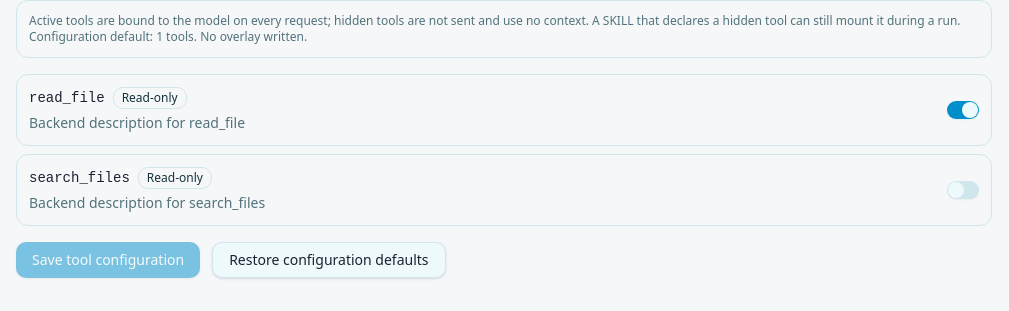
it: ToolsSettingsCard mounted feedback › preserves raw backend save errors across locale changes (toolsSettings.savedEmpty)
What coordinates should you click on to do the following:
click the switch named "read_file active status"
I would click on:
 (963, 110)
Its box is [947,101,979,119].
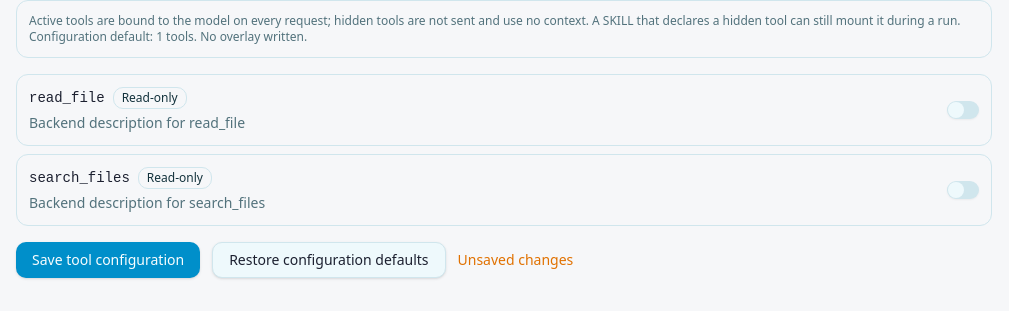
Expected: the button "Save tool configuration" is enabled
What coordinates should you click on to do the following:
click the button "Save tool configuration"
I would click on:
 (108, 260)
Its box is [16,242,200,278].
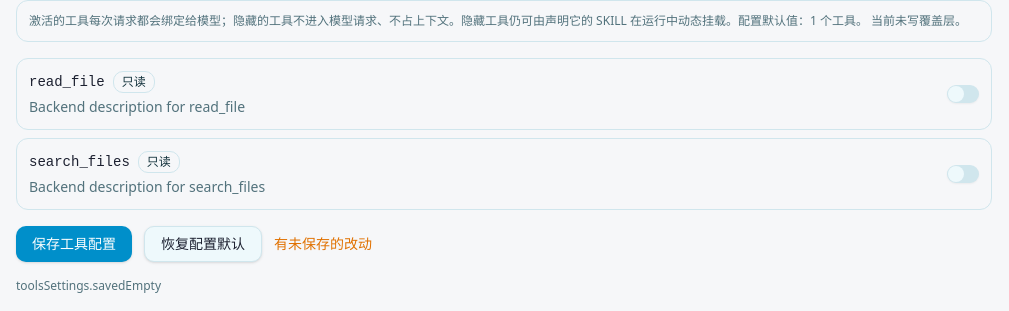
Expected: the button "保存工具配置" is enabled, [16,226,132,262]
Expected: the text "toolsSettings.savedEmpty" is shown, [16,277,161,294]
